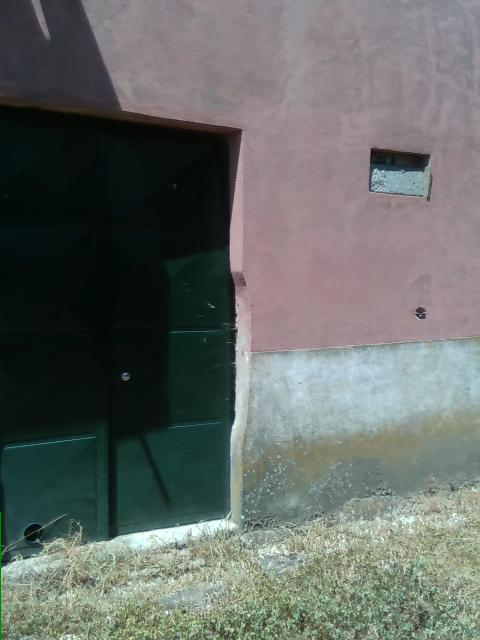door: (0, 90, 252, 578)
